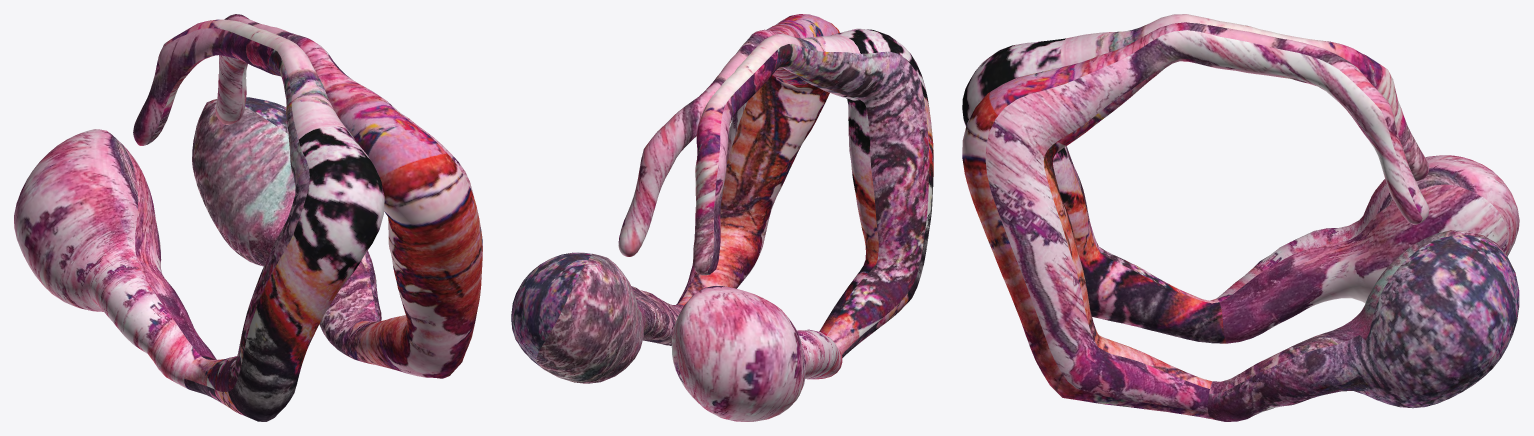
The model's file is hippocampus.optimized.glb.
3 renders of one model, left to right at view 1: azimuth 30°, elevation 25°; view 2: azimuth 150°, elevation 25°; view 3: azimuth 270°, elevation 25°, orthographic. The views are drawn at different scales.
Parts seen in each view (by area): view 1: Default; view 2: Default; view 3: Default.
Part boxes in pixels (bbox=[...]): Default: bbox=[14, 14, 482, 421]; Default: bbox=[511, 14, 933, 421]; Default: bbox=[962, 14, 1519, 421].
Bounding box in the file's own units: 43.93 × 47.56 × 66.66.
1 material, 1 textured.
